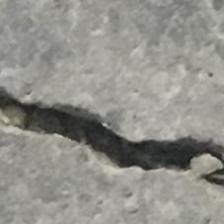Crack: (0, 78, 224, 186)
